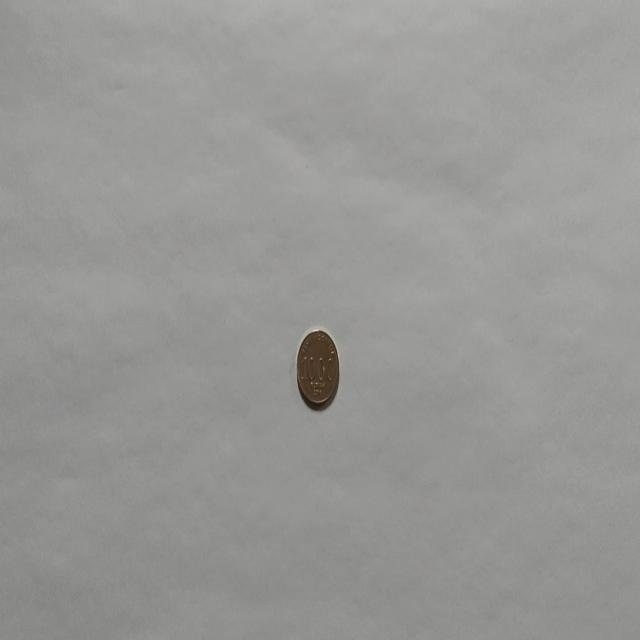seribu rupiah koin: (295, 326, 340, 409)
